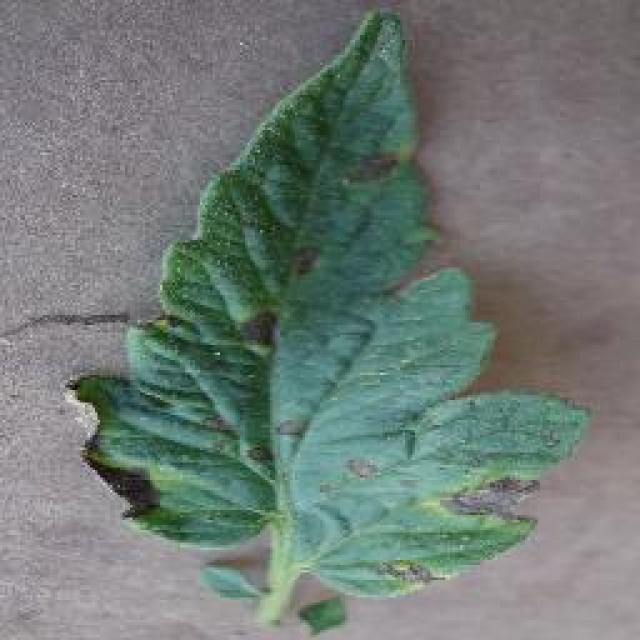Tomato Early blight leaf: (62, 6, 595, 594)
